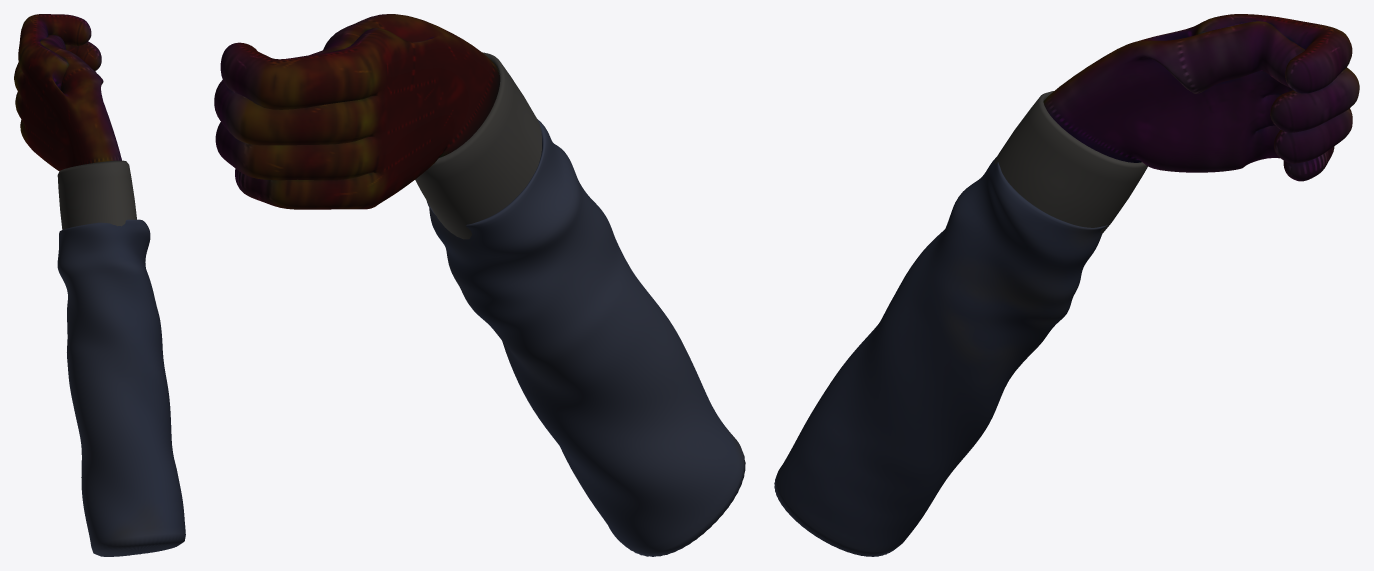
The model's file is fp_hand_L_fist.glb.
3 views of the same model, side by side, from view 1: azimuth 30°, elevation 25°; view 2: azimuth 150°, elevation 25°; view 3: azimuth 270°, elevation 25° (orthographic). The views are drawn at different scales.
Parts seen in each view (by area): view 1: fp_hand_L_fist; view 2: fp_hand_L_fist; view 3: fp_hand_L_fist.
Boxes of the visible parts, bbox=[...] form: fp_hand_L_fist: bbox=[14, 14, 185, 556]; fp_hand_L_fist: bbox=[214, 14, 745, 556]; fp_hand_L_fist: bbox=[774, 14, 1359, 556].
Size of the model in its own units: 0.1414 by 0.3368 by 0.3158.
Materials: 3 (1 with a texture image).
